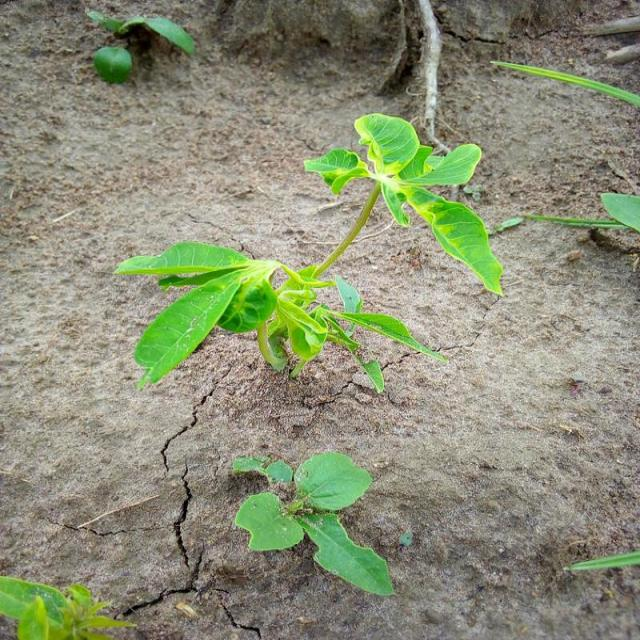cassava leaf: (232, 450, 394, 597), (86, 8, 195, 56), (93, 45, 132, 83)
